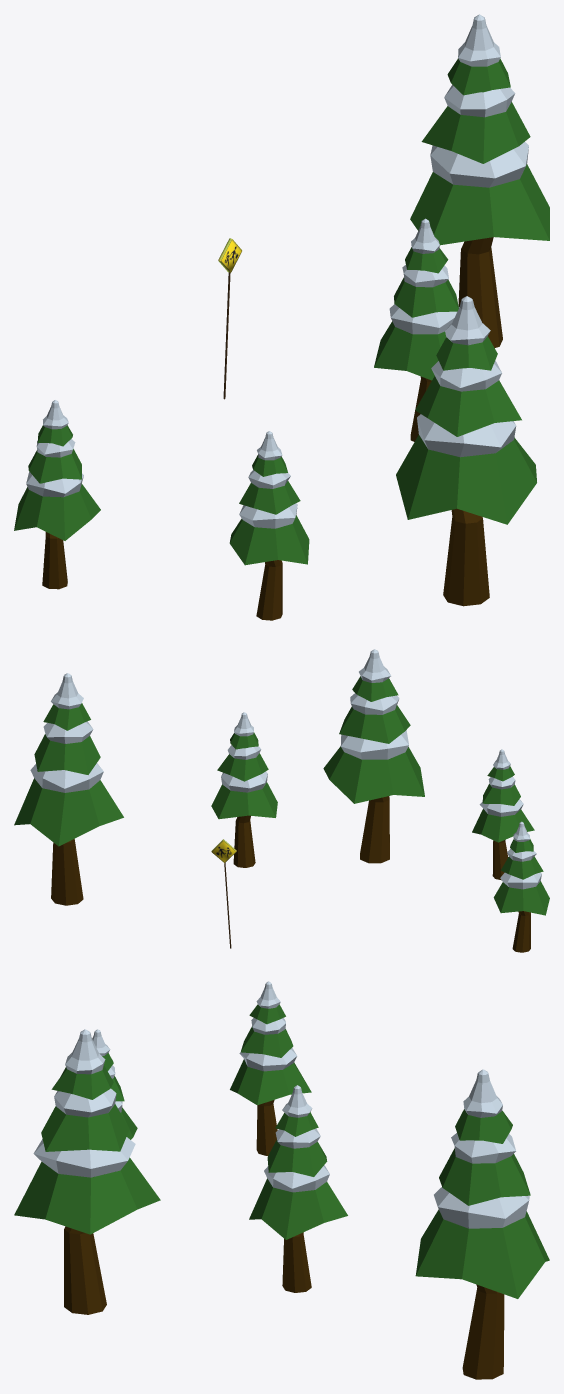
The model's file is busstop_compressed.glb.
3 views of the same model, one above another, from view 1: azimuth 30°, elevation 25°; view 2: azimuth 150°, elevation 25°; view 3: azimuth 270°, elevation 25° (orthographic). The views are drawn at different scales.
Visible parts, largest first — view 1: Cone.152; view 2: Cone.152; view 3: Cone.152.
Boxes of the visible parts, x1=… form: Cone.152: x1=14, y1=14, x2=549, y2=620; Cone.152: x1=14, y1=649, x2=549, y2=952; Cone.152: x1=14, y1=981, x2=549, y2=1379.
Size of the model in its own units: 3.22 by 1.78 by 2.54.
5 materials, 1 textured.
